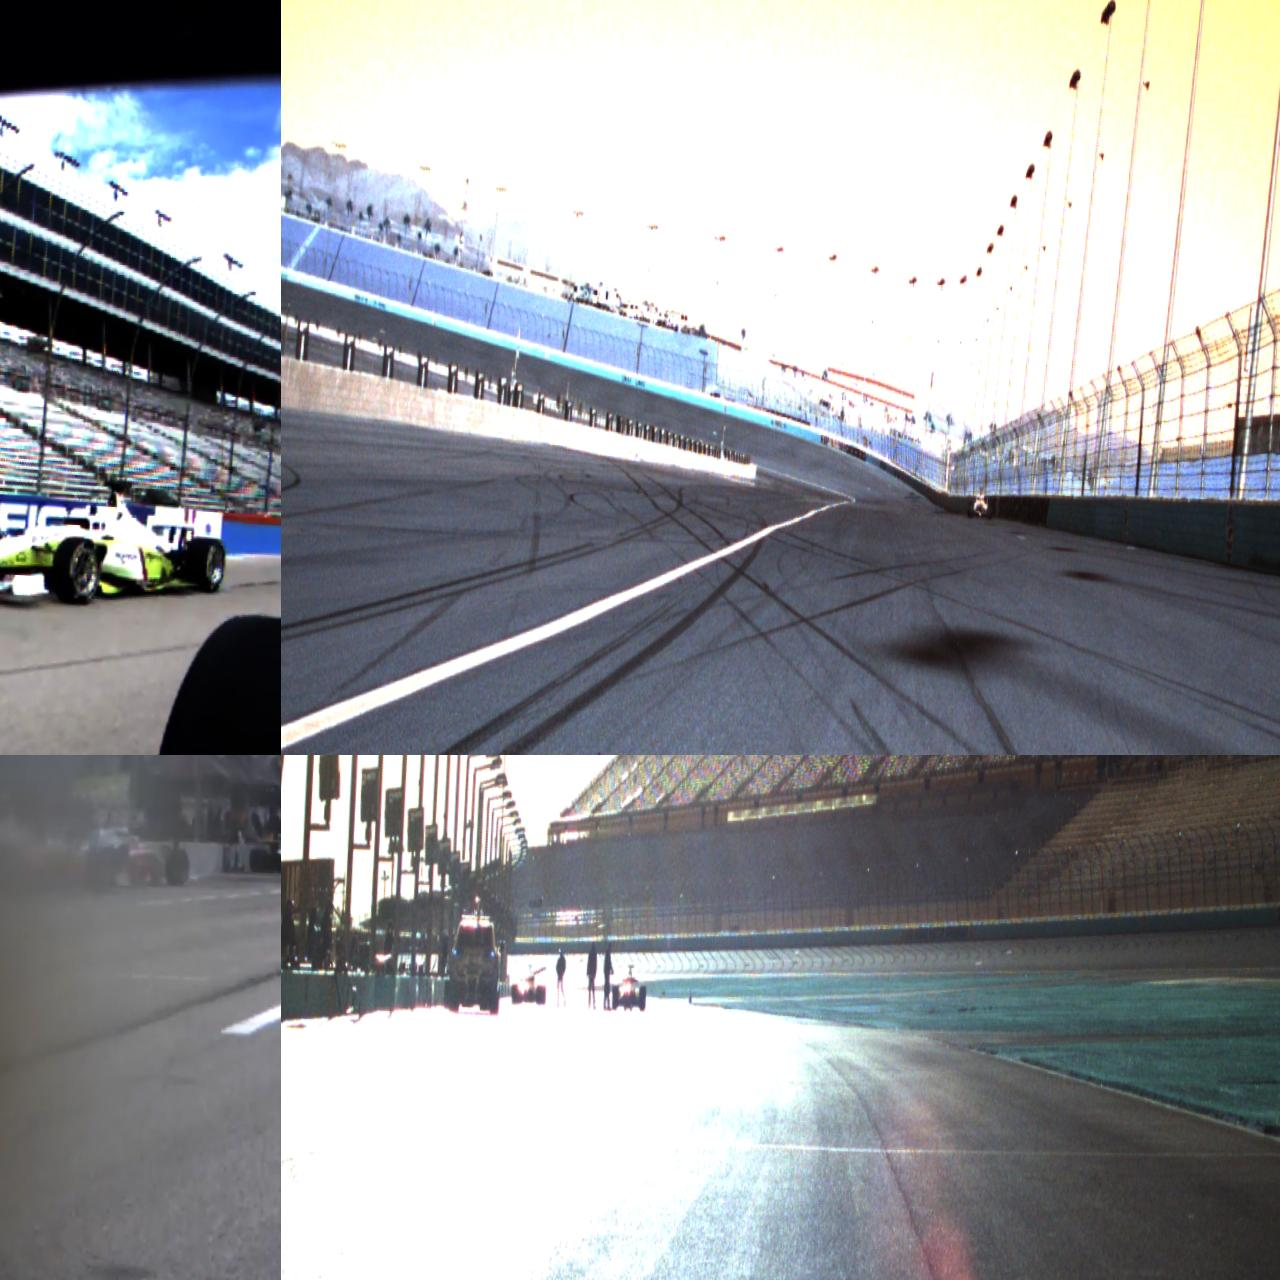AV: (0, 469, 229, 612), (611, 964, 647, 1009), (511, 962, 547, 1005), (967, 486, 993, 519)
Wheel: (144, 611, 281, 755), (52, 536, 101, 605), (186, 536, 226, 594), (163, 847, 190, 886), (248, 846, 268, 872), (536, 983, 546, 1005), (638, 985, 646, 1009), (611, 983, 619, 1008), (511, 983, 518, 1003), (967, 501, 974, 517), (987, 503, 992, 519)
